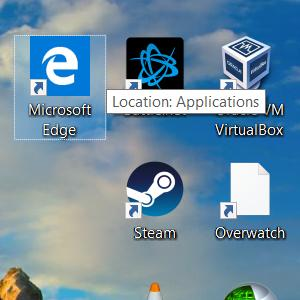edge: (30, 35, 90, 95)
